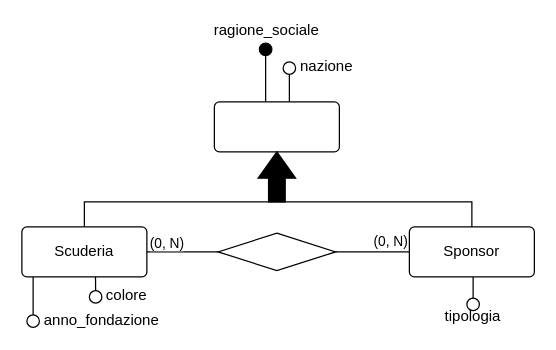
Image size: 556x350. Some labels were removed from this diagram. Each missing label, with the centre of its shape:
"Azienda" goes at point (276, 126).
"Investe" goes at point (276, 251).
